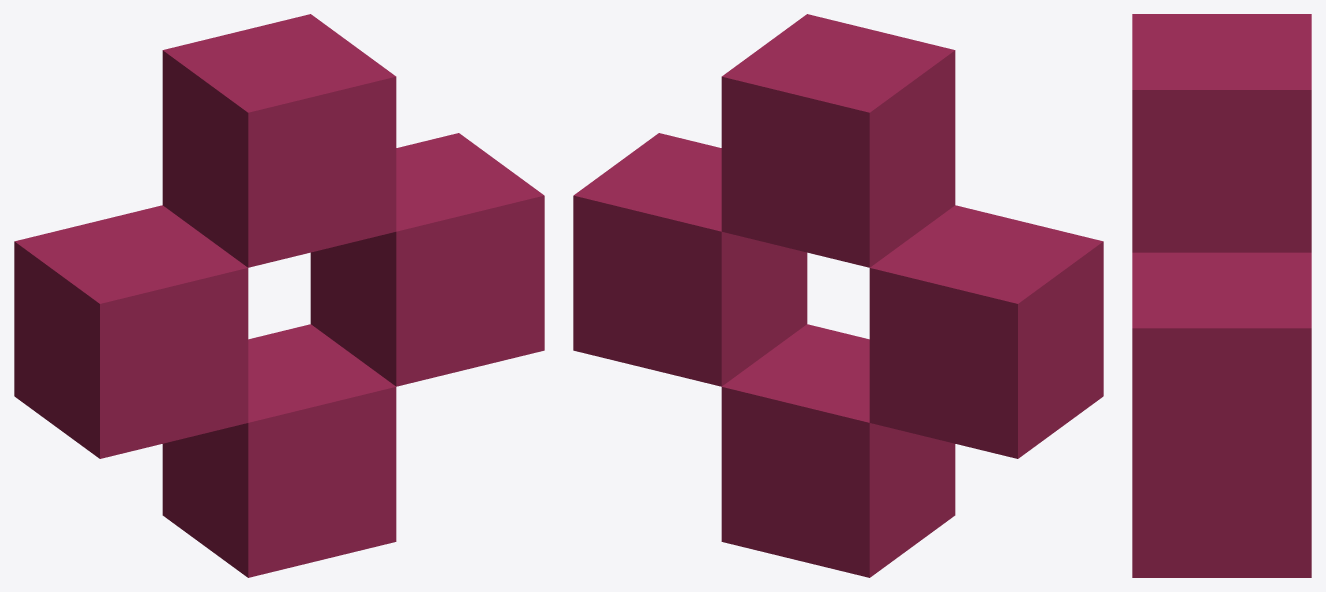
Rendered from Ring-Small-Purple.vox.obj.
3 renders of one model, left to right at view 1: azimuth 30°, elevation 25°; view 2: azimuth 150°, elevation 25°; view 3: azimuth 270°, elevation 25°, orthographic. The views are drawn at different scales.
Size of the model in its own units: 0.3 by 0.3 by 0.1.
Materials: 1 (1 with a texture image).
